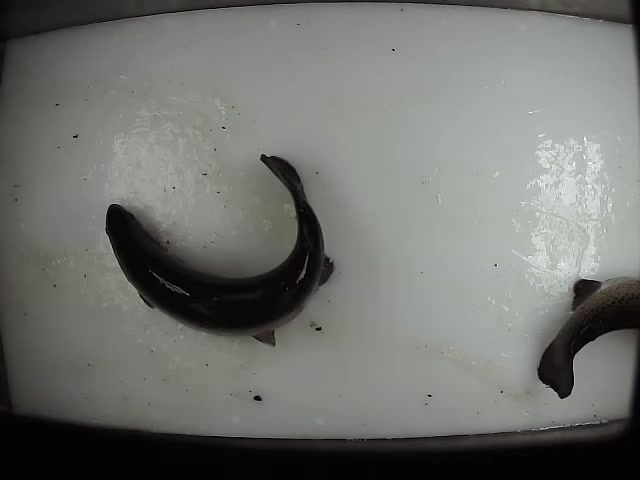fish: (104, 152, 337, 350), (537, 275, 640, 403)
